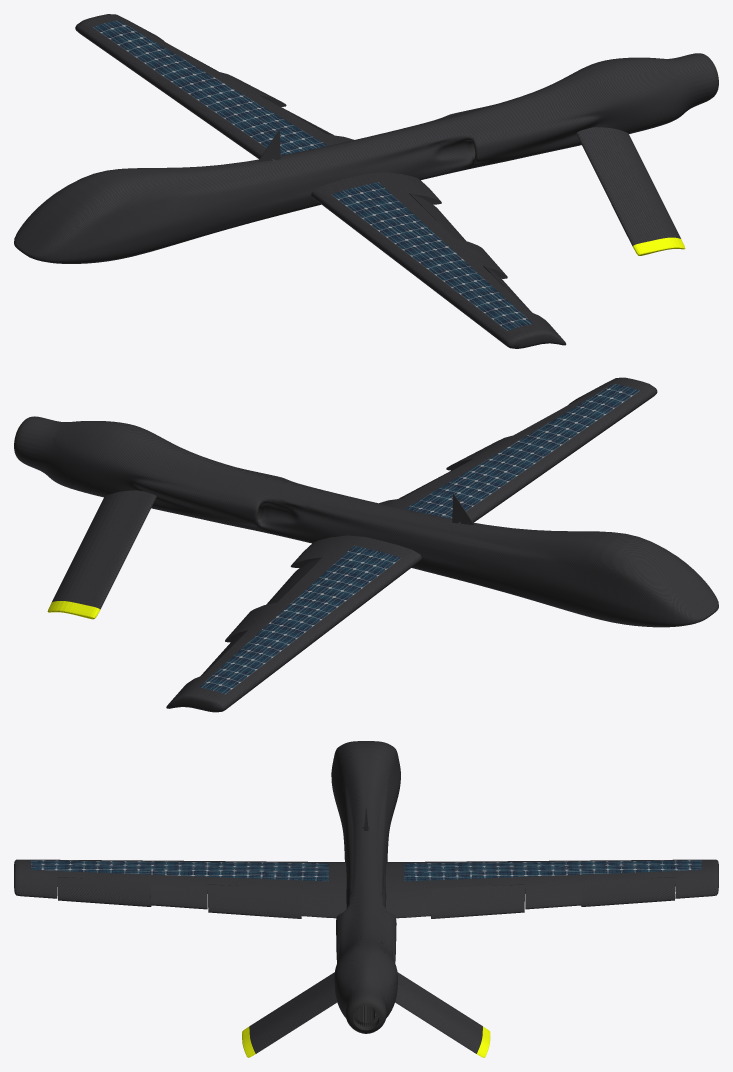
File: predator2.glb
3 views of the same model, one above another, from view 1: azimuth 30°, elevation 25°; view 2: azimuth 150°, elevation 25°; view 3: azimuth 270°, elevation 25° (orthographic). The views are drawn at different scales.
Visible parts, largest first — view 1: Cube; view 2: Cube; view 3: Cube.
Boxes of the visible parts, box(x1,y1,x2,y2) form: Cube: box(14, 14, 718, 348); Cube: box(14, 377, 718, 712); Cube: box(14, 741, 718, 1057).
Bounding box in the file's own units: 2527 × 514 × 2774.
4 materials, 2 textured.
